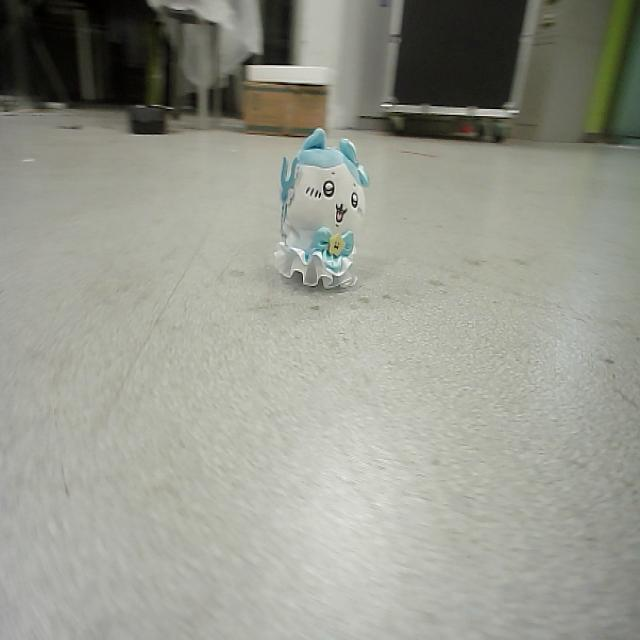xiaoba: (274, 124, 369, 293)
